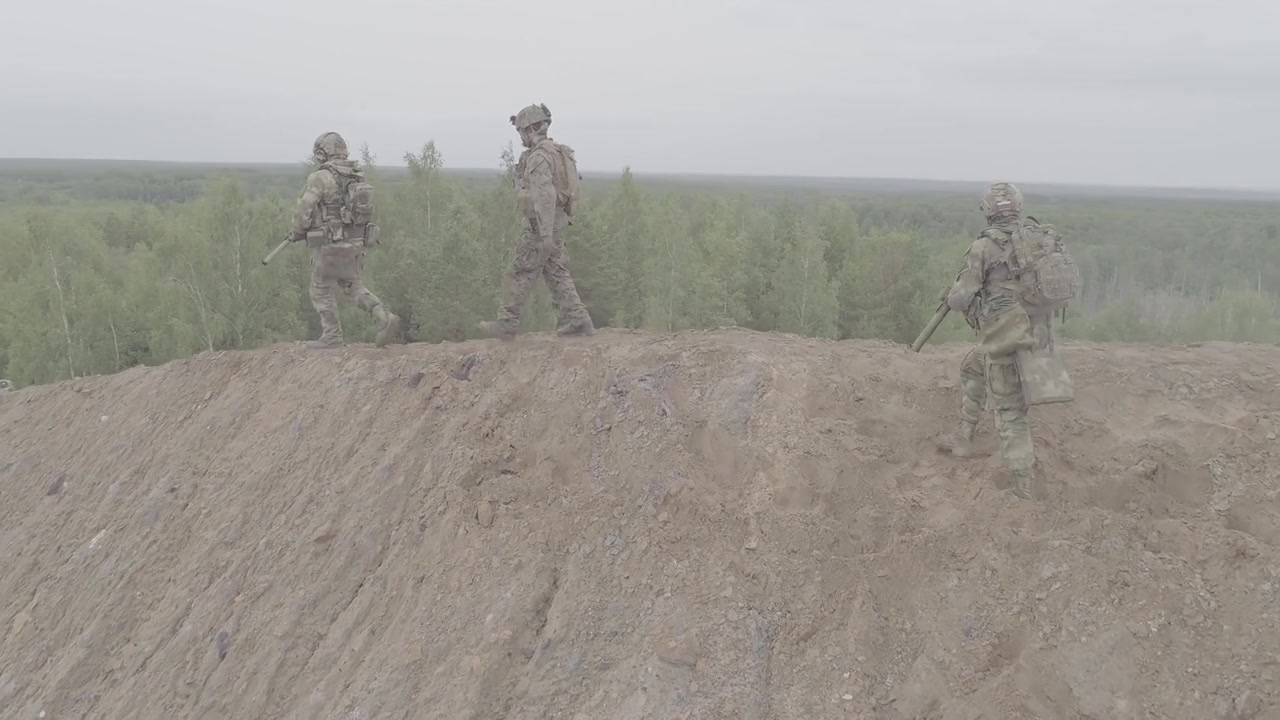person: (926, 164, 1124, 461), (541, 92, 635, 321)
